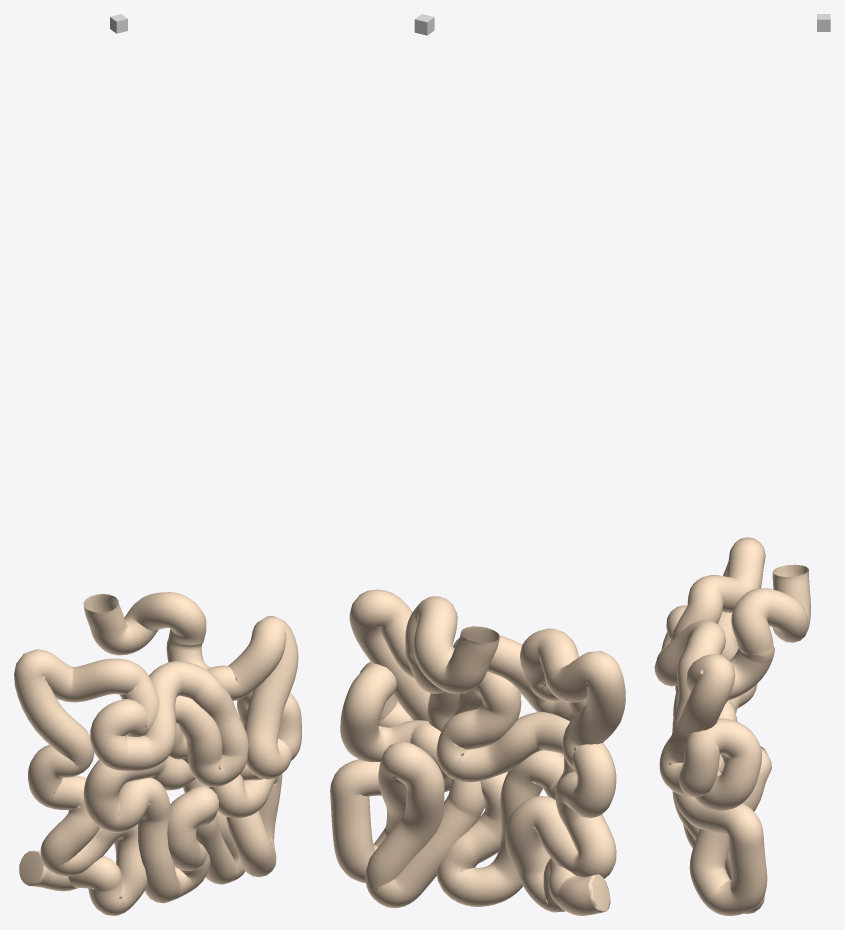
File: delgado.gltf
The picture shows the model from 3 angles, left to right: view 1: azimuth 30°, elevation 25°; view 2: azimuth 150°, elevation 25°; view 3: azimuth 270°, elevation 25°; orthographic projection. The views are drawn at different scales.
Parts seen in each view (by area): view 1: Mesh_103.001; view 2: Mesh_103.001; view 3: Mesh_103.001.
Part boxes in pixels (<box>): Mesh_103.001: <box>14,592,301,915</box>; Mesh_103.001: <box>330,589,625,915</box>; Mesh_103.001: <box>654,537,810,915</box>.
Size of the model in its own units: 45.58 by 141 by 26.14.
